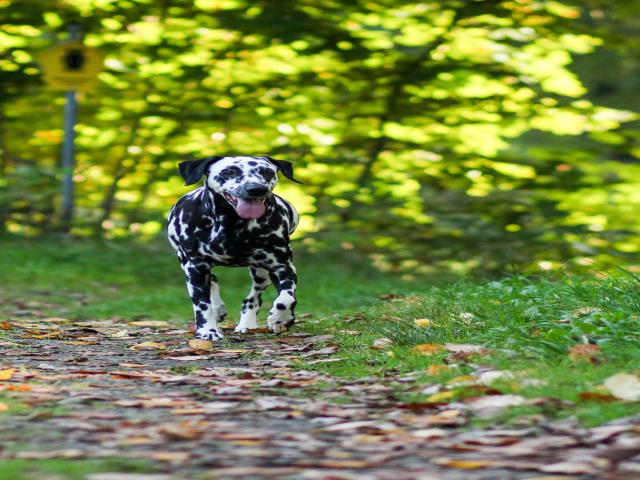Dog: (168, 154, 298, 344)
